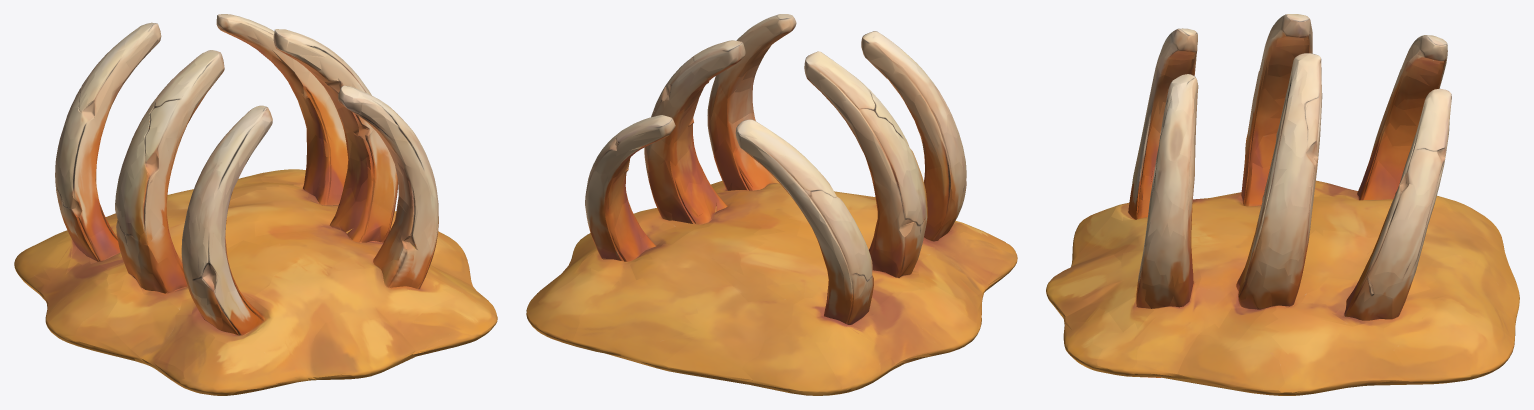
File: ossada.glb
3 views of the same model, side by side, from view 1: azimuth 30°, elevation 25°; view 2: azimuth 150°, elevation 25°; view 3: azimuth 270°, elevation 25° (orthographic). The views are drawn at different scales.
Visible parts, largest first — view 1: output_unwrapped; view 2: output_unwrapped; view 3: output_unwrapped.
Part boxes in pixels (x1=…): output_unwrapped: x1=14, y1=14, x2=497, y2=395; output_unwrapped: x1=526, y1=14, x2=1017, y2=395; output_unwrapped: x1=1046, y1=14, x2=1519, y2=395.
Size of the model in its own units: 1.9 by 1.15 by 1.88.
1 material, 1 textured.
